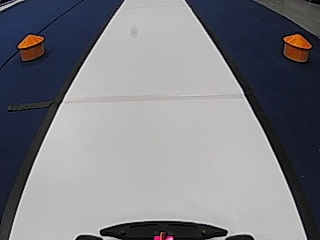granary: (281, 33, 313, 63), (15, 32, 45, 62)
